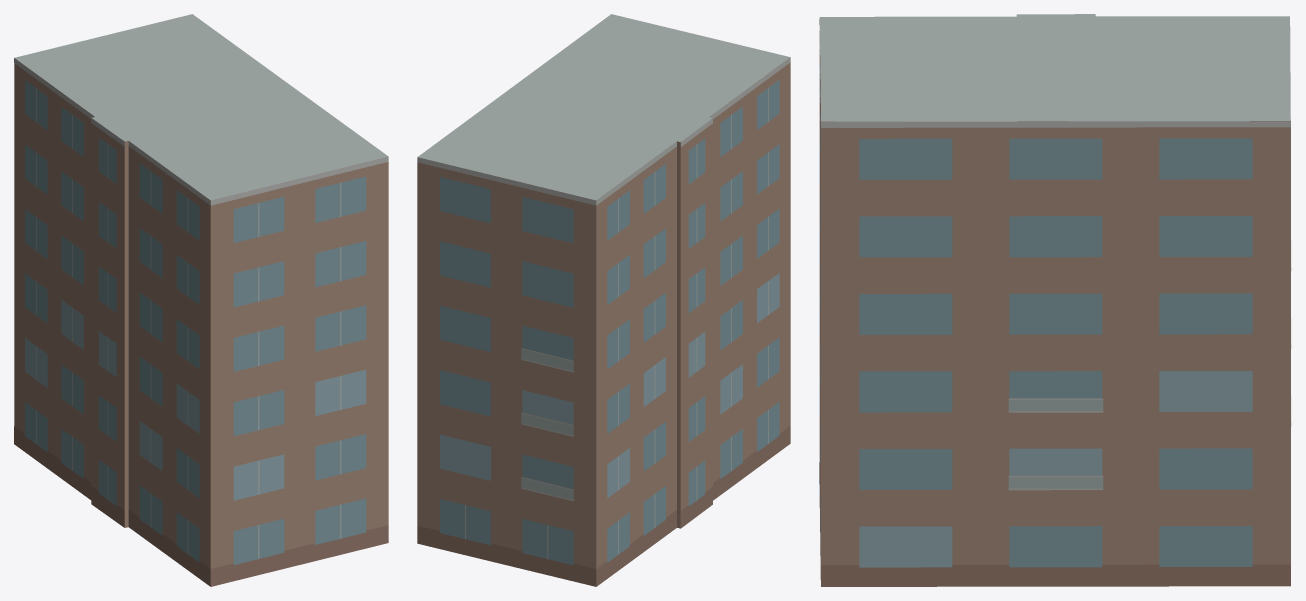
Rendered from survey-upis-32906987.glb.
3 views of the same model, side by side, from view 1: azimuth 30°, elevation 25°; view 2: azimuth 150°, elevation 25°; view 3: azimuth 270°, elevation 25° (orthographic). The views are drawn at different scales.
Parts seen in each view (by area): view 1: survey-upis-32906987.tmp; view 2: survey-upis-32906987.tmp; view 3: survey-upis-32906987.tmp.
Boxes of the visible parts, x1,y1,x2,y2 form: survey-upis-32906987.tmp: (14,14,388,586); survey-upis-32906987.tmp: (417,14,790,586); survey-upis-32906987.tmp: (819,14,1291,586).
Bounding box in the file's own units: 9.11 × 18.3 × 16.83.
